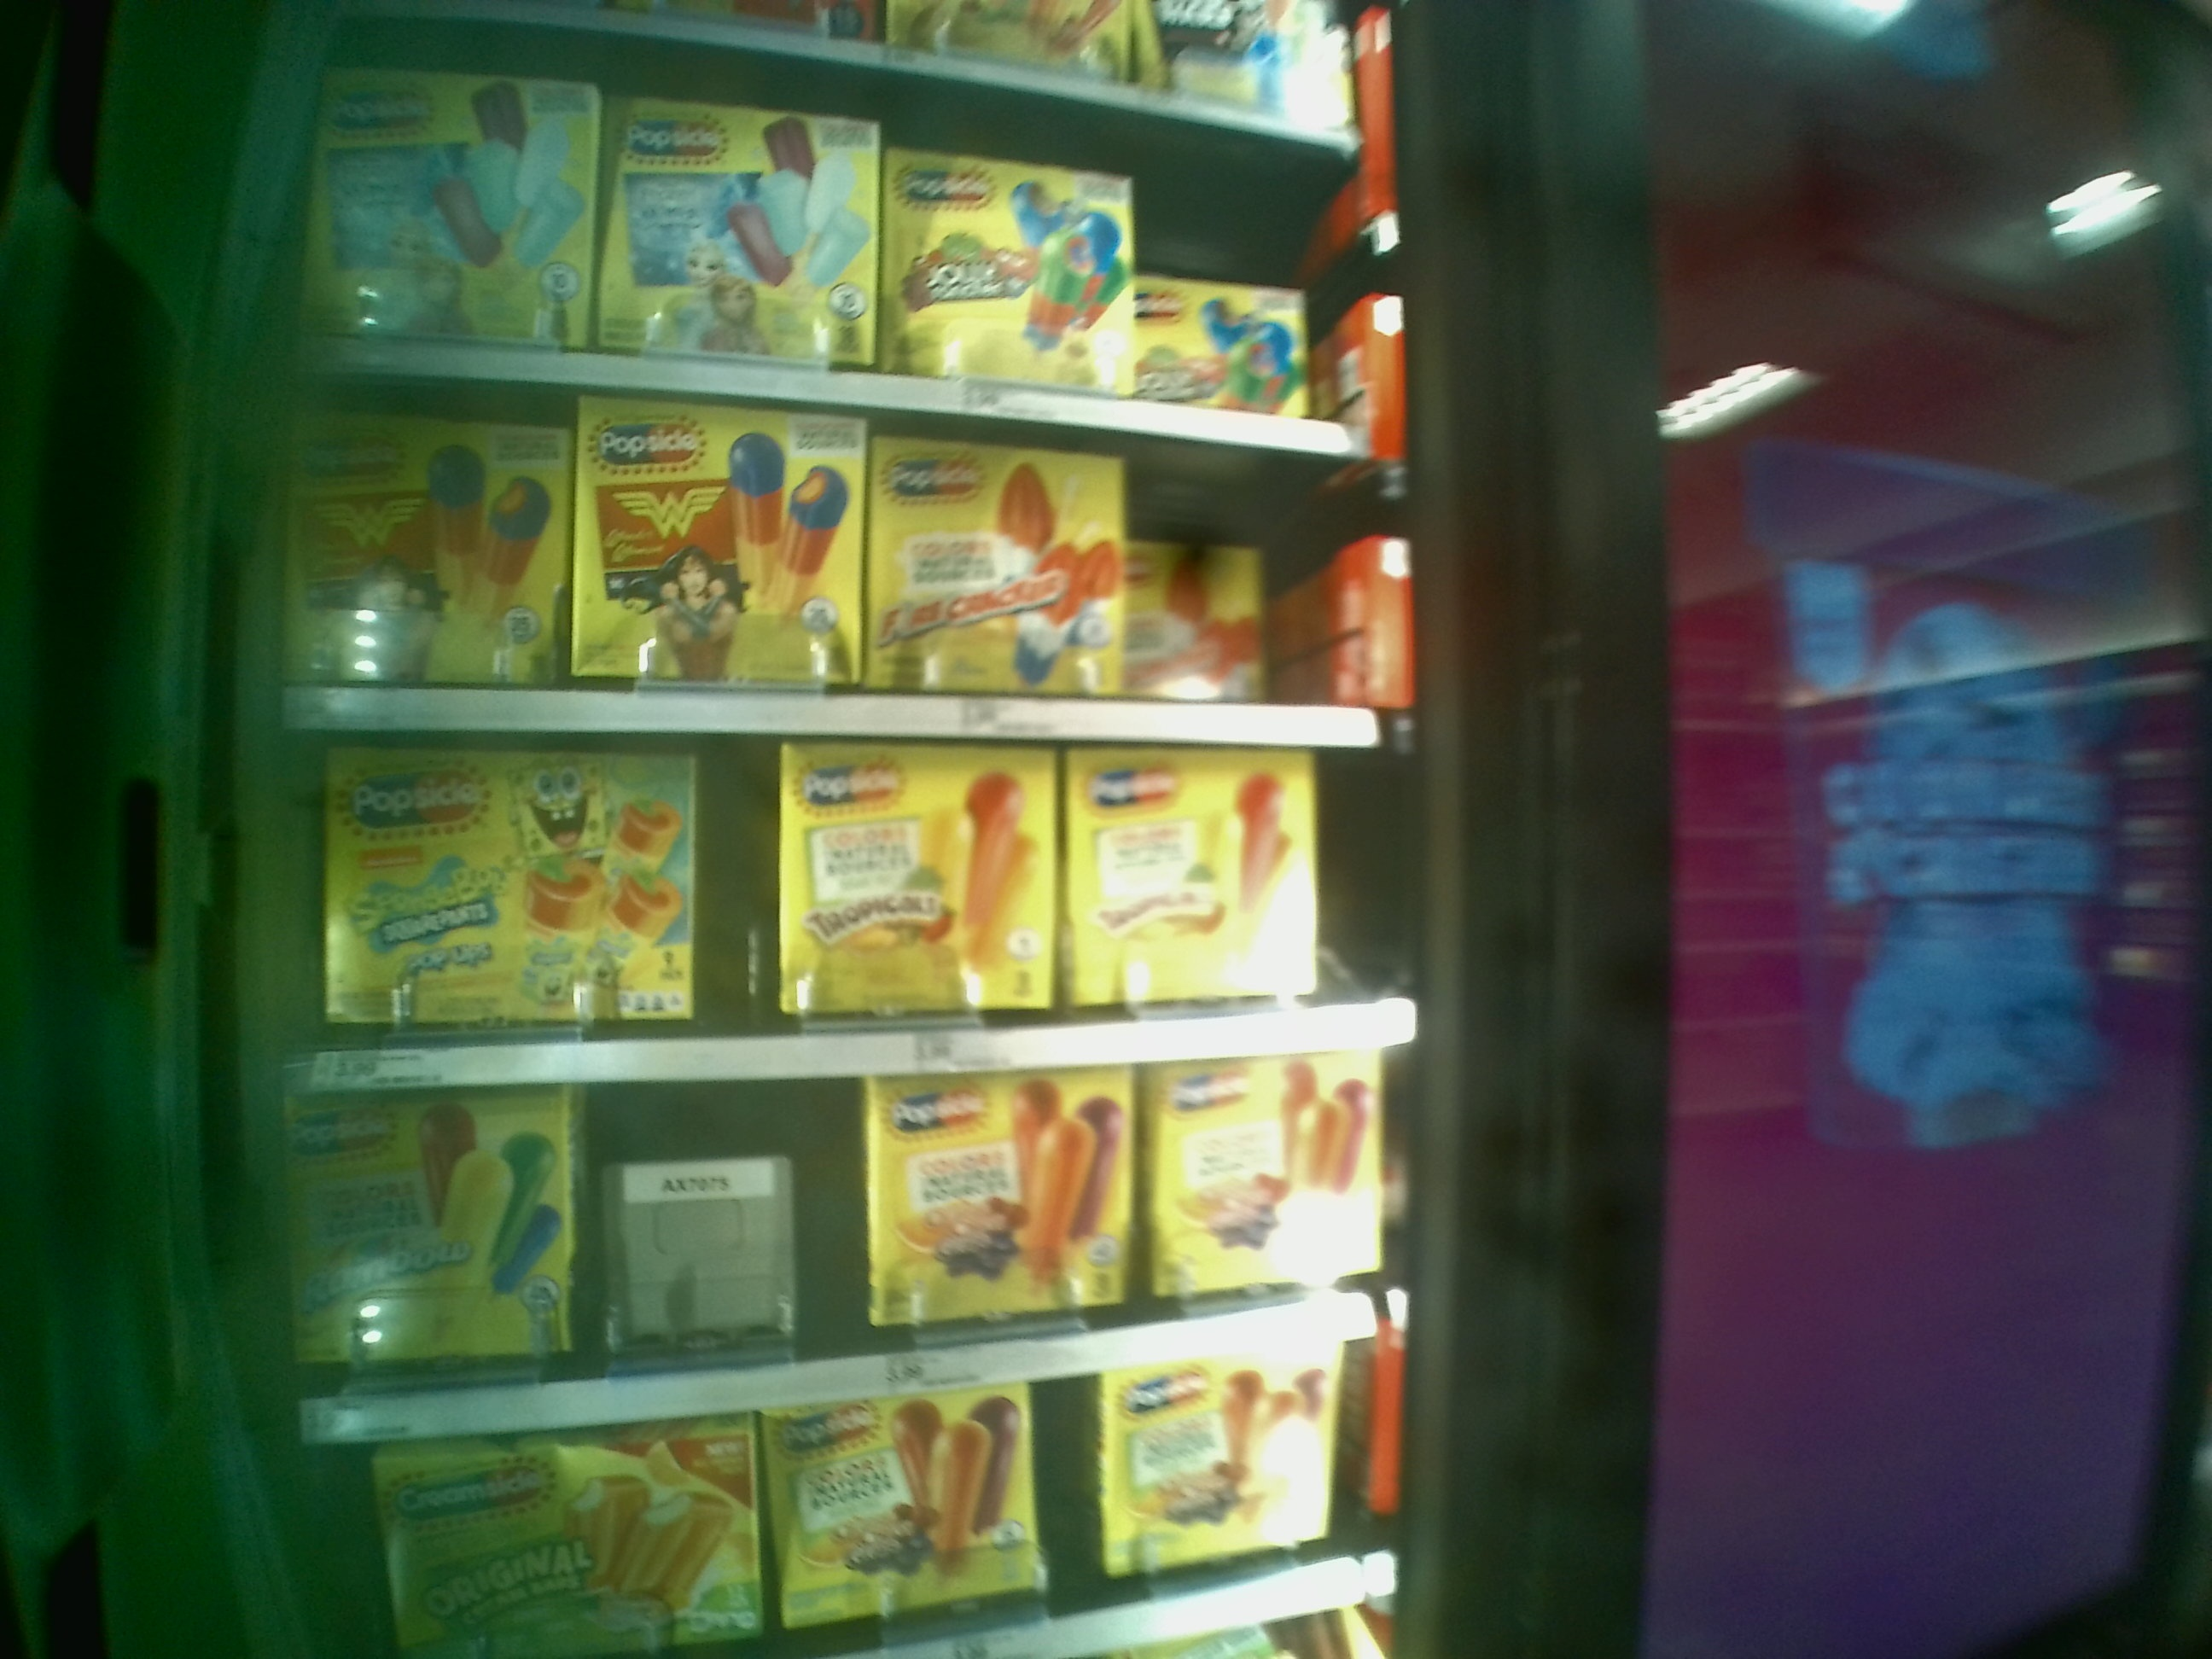frozen-food-shelf: (273, 734, 1433, 1094)
